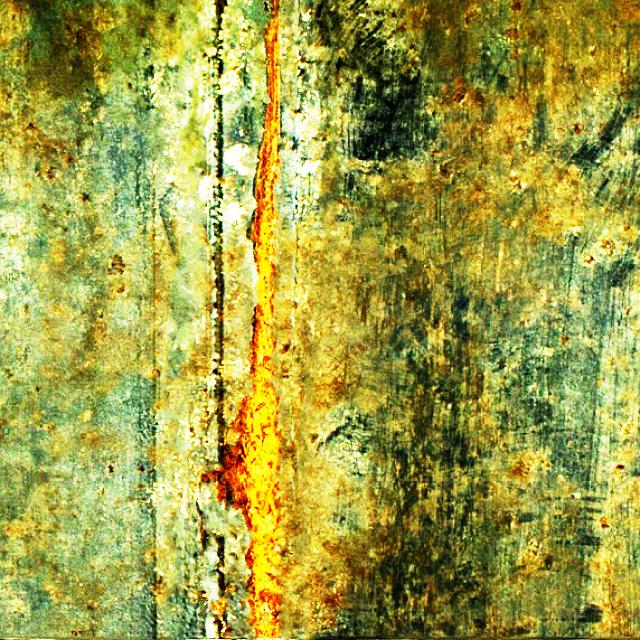Corrosion: (202, 15, 285, 638), (212, 598, 227, 614)
